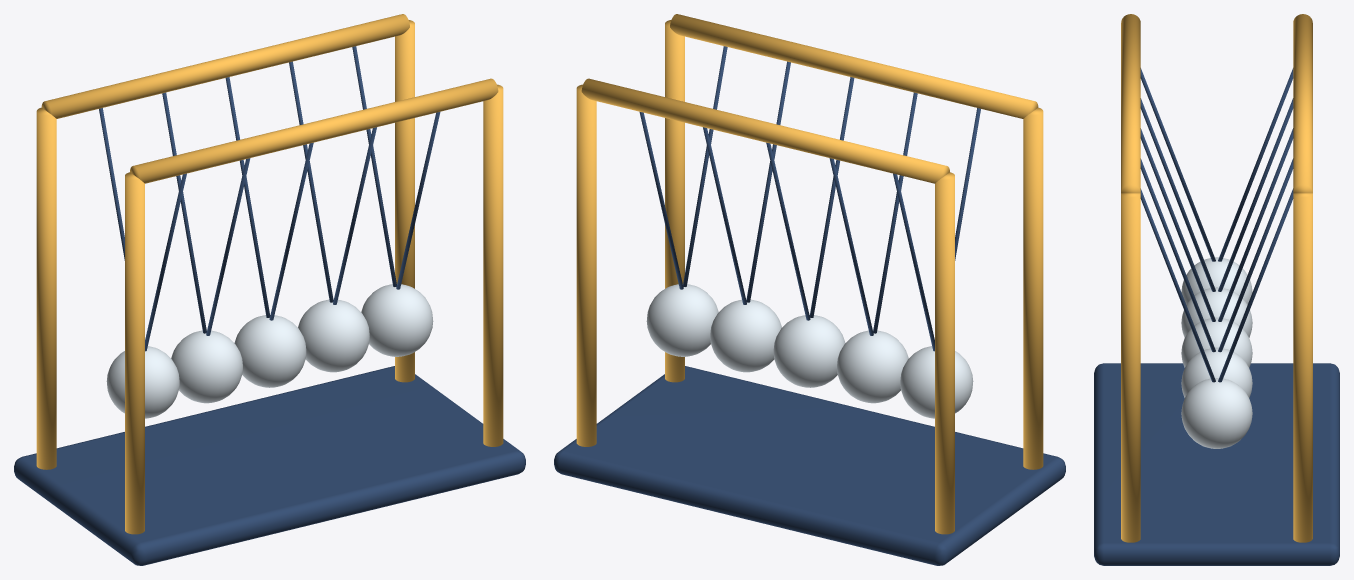
The model's file is newton-cradle-quality.glb.
3 renders of one model, left to right at view 1: azimuth 30°, elevation 25°; view 2: azimuth 150°, elevation 25°; view 3: azimuth 270°, elevation 25°, orthographic. The views are drawn at different scales.
Visible parts, largest first — view 1: Base; view 2: Base; view 3: Base.
Part boxes in pixels (x1,y1,x2,y2): Base: (14,14,525,565); Base: (554,14,1065,565); Base: (1094,14,1339,565).
Size of the model in its own units: 1.8 by 1.69 by 1.
